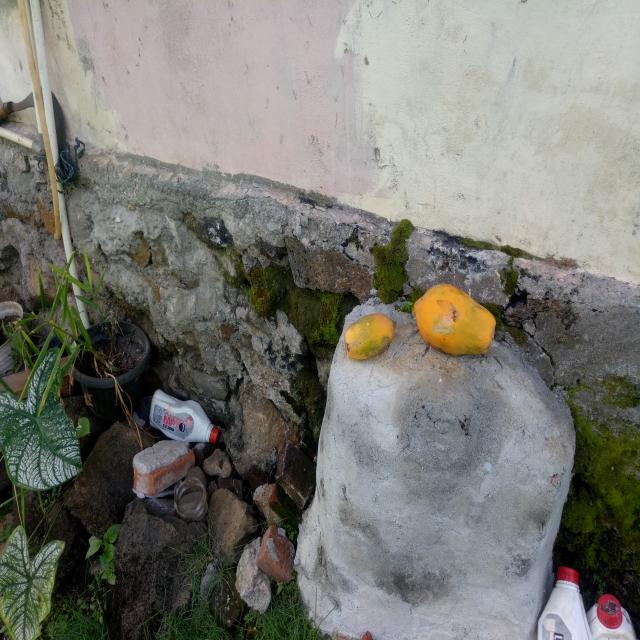Pepaya rippen: (412, 284, 502, 371), (337, 312, 400, 364)
